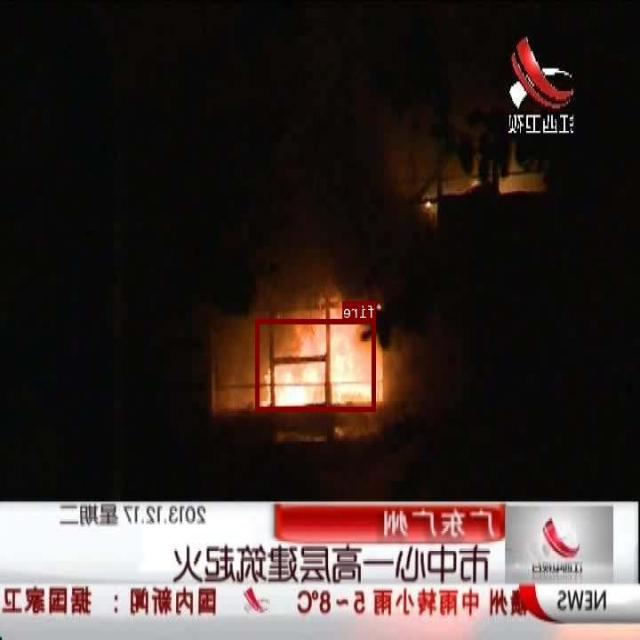fire: (256, 319, 376, 410)
